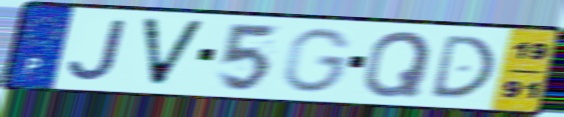5: (211, 22, 284, 94)
D: (427, 33, 499, 100)
G: (280, 26, 356, 95)
J: (66, 17, 131, 83)
Q: (359, 29, 436, 100)
V: (137, 15, 210, 90)
